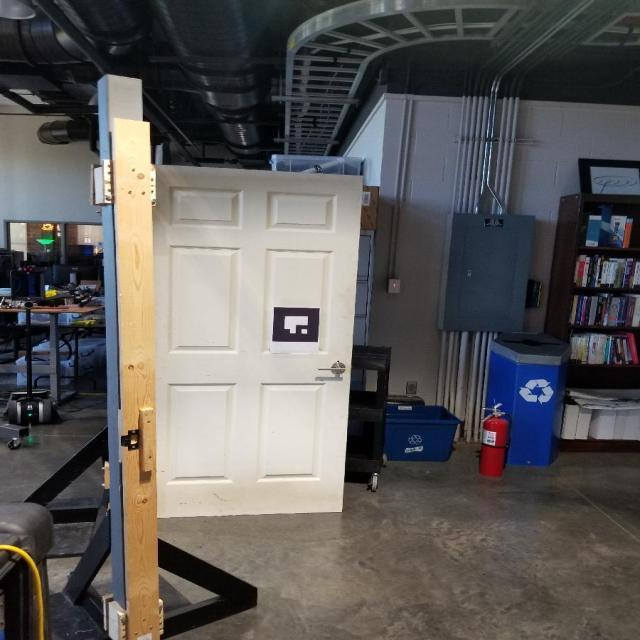door: (136, 161, 362, 522), (309, 359, 347, 376)
